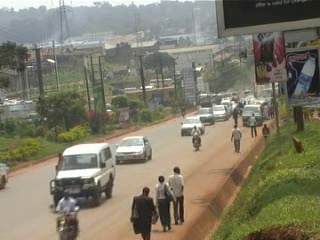Car: (49, 138, 115, 209), (114, 134, 154, 166), (178, 113, 205, 136), (195, 106, 216, 127), (211, 103, 228, 120), (219, 97, 232, 115), (231, 101, 238, 115)
Motorcycle: (47, 189, 87, 239), (188, 125, 204, 152)
